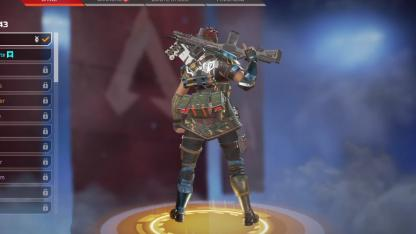Target: (174, 24, 240, 170)
